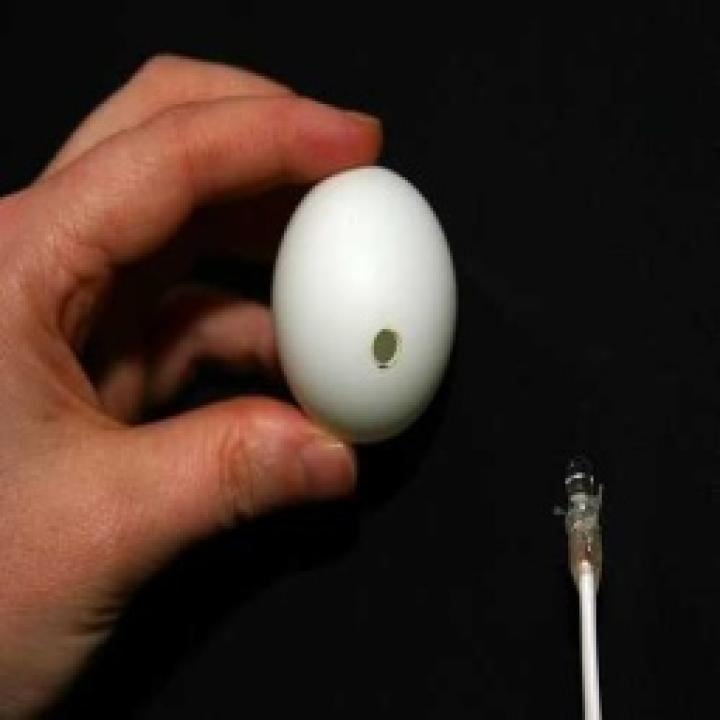white: (275, 162, 457, 442)
